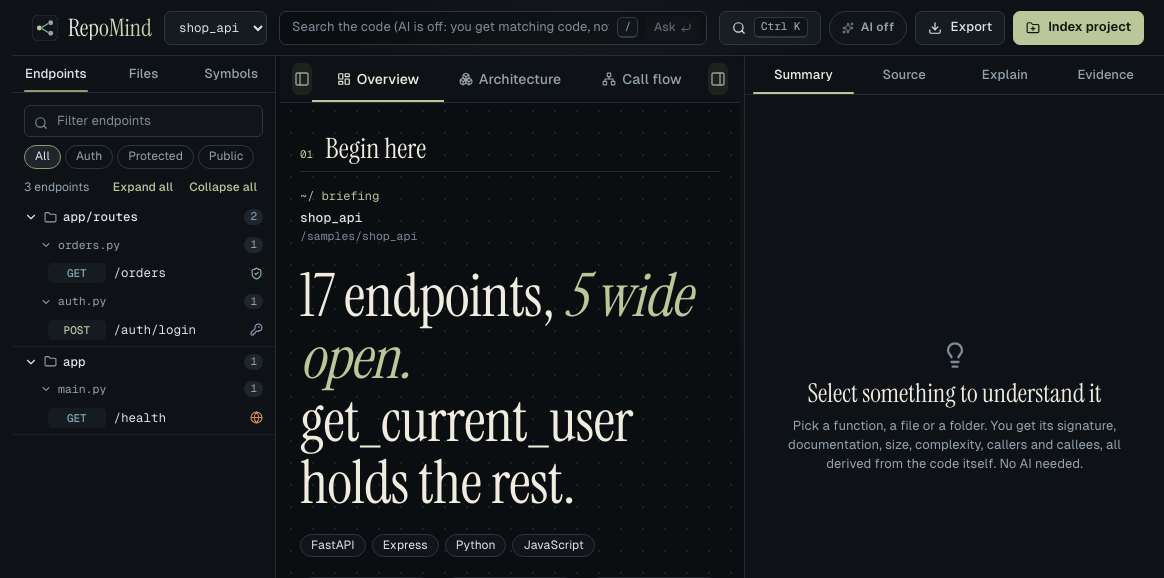
Test: Call flow › explains why an endpoint was classified, in the Evidence tab
The width and height of the screenshot is (1164, 578).
Click the text "/auth/login".
click(155, 329)  # box [114,321,196,338]
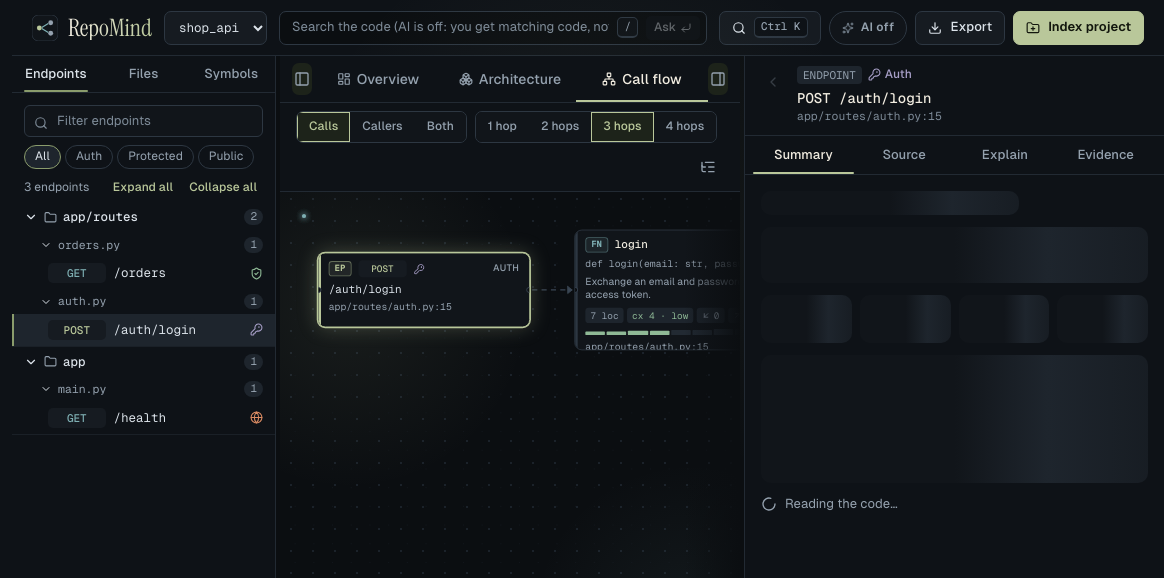
Press the mouse on the tab "Evidence" at (1106, 155), box [1055,136,1156,174]
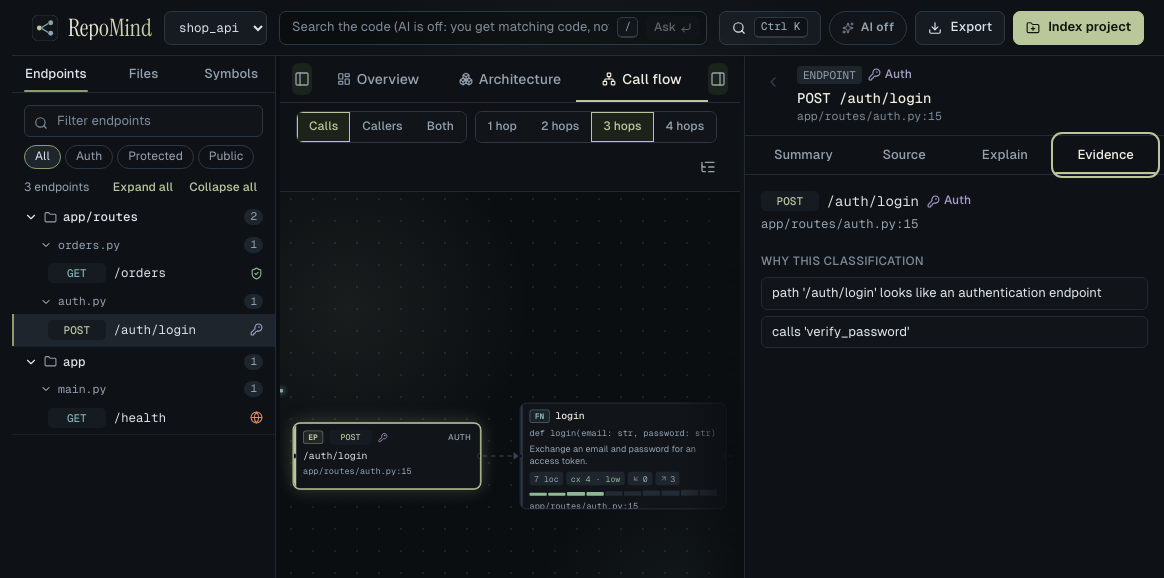
Check: the list item "path '/auth/login' looks like an authentication endpoint" is shown, box [761,277,1148,310]
Check: the list item "calls 'verify_password'" is shown, box [761,316,1148,348]
